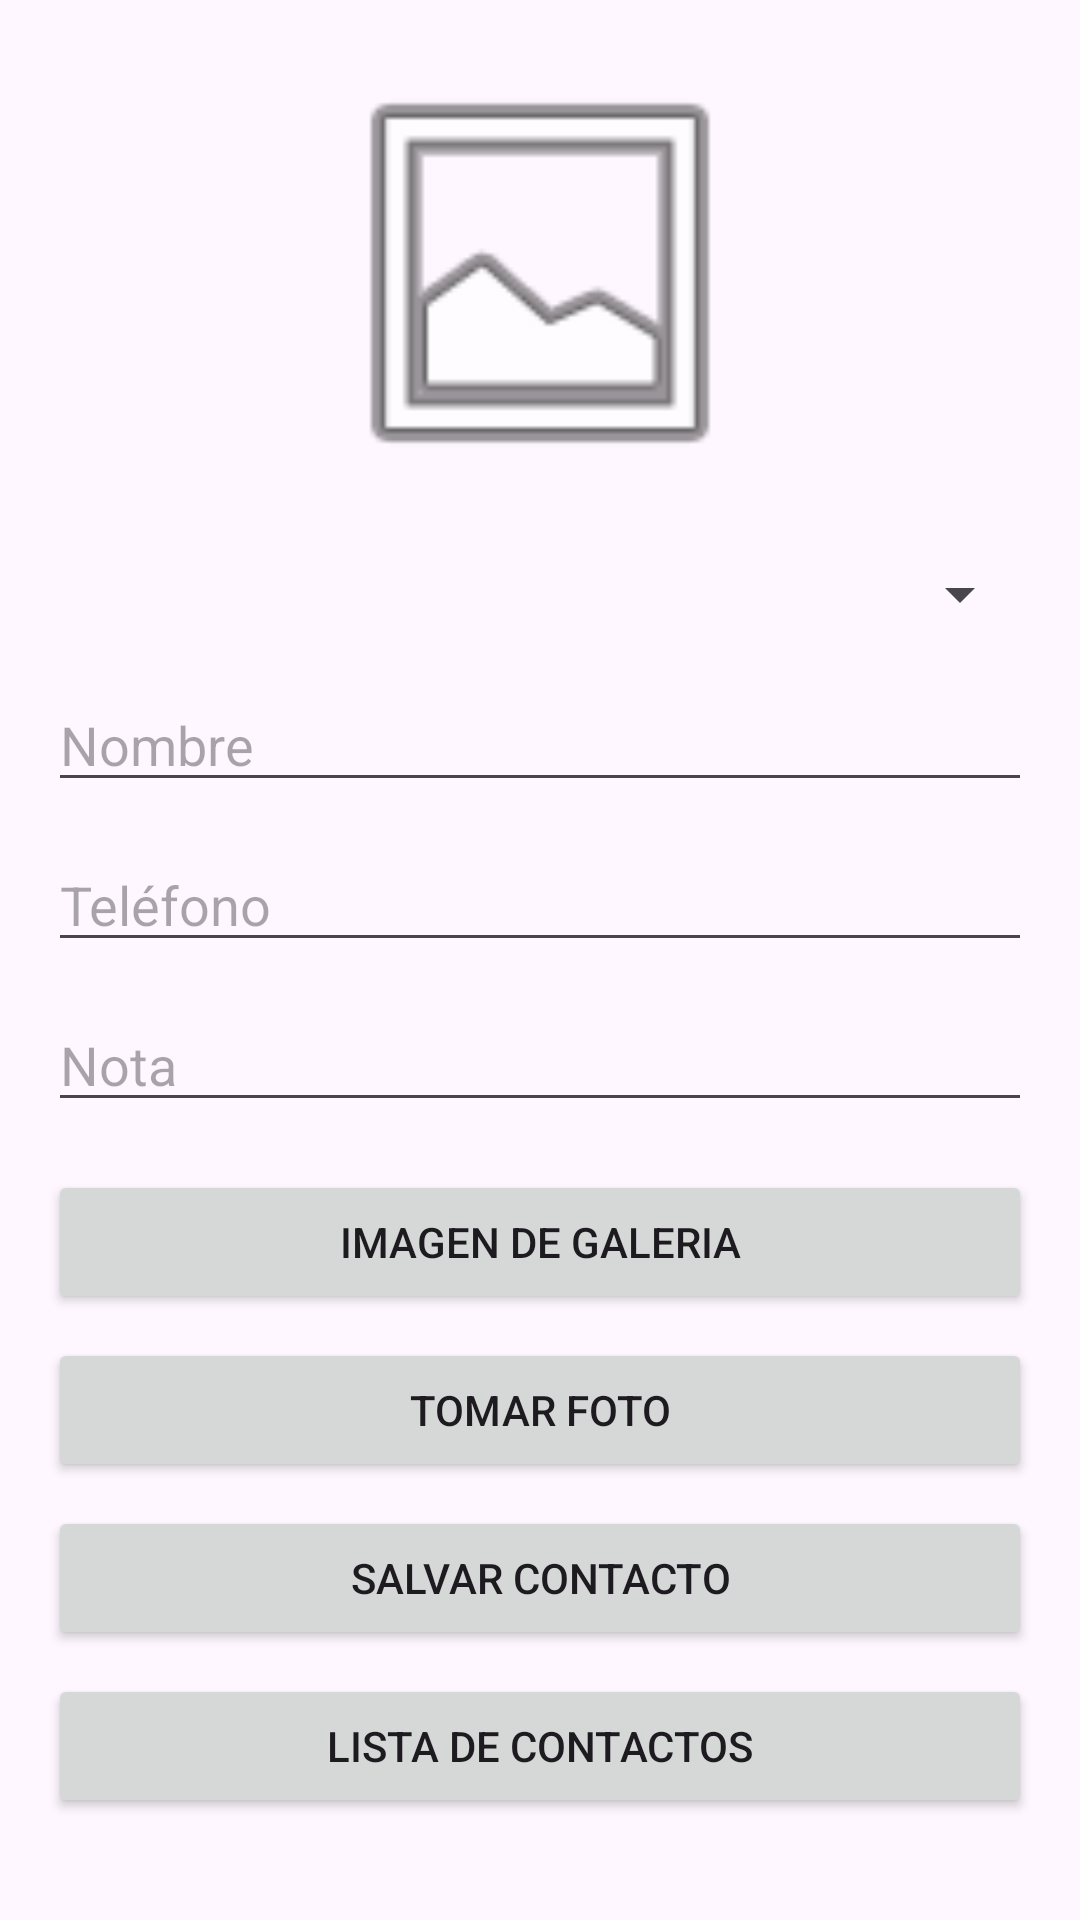

Screen size 1080 x 1920. Icon name, then its box in pixels as box=[x1, y1, x2, y2]:
gallery: box=[370, 103, 710, 443]
